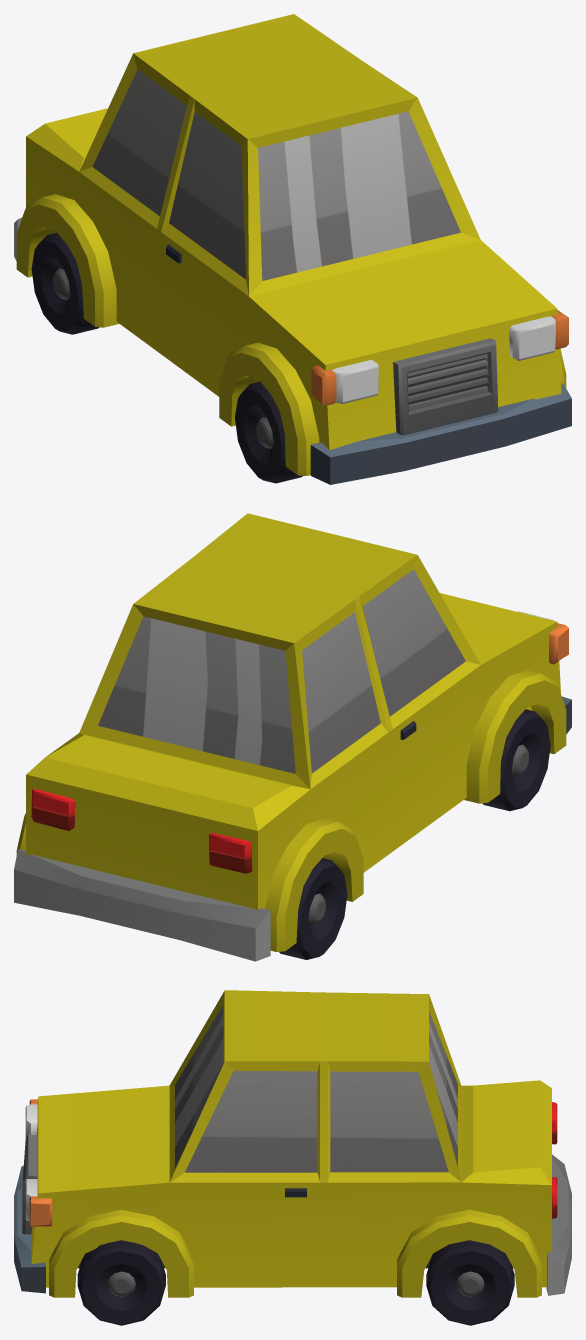
Rendered from Car_2_20.fbx.
3 views of the same model, one above another, from view 1: azimuth 30°, elevation 25°; view 2: azimuth 150°, elevation 25°; view 3: azimuth 270°, elevation 25° (orthographic). The views are drawn at different scales.
Parts seen in each view (by area): view 1: Car_2_20, W_BR, W_FR; view 2: Car_2_20, W_FR, W_BR; view 3: Car_2_20, W_BL, W_FL.
Part boxes in pixels (<box>): Car_2_20: <box>14,14,571,484</box>; W_BR: <box>31,232,99,334</box>; W_FR: <box>235,381,302,483</box>; Car_2_20: <box>14,513,571,961</box>; W_FR: <box>482,709,550,811</box>; W_BR: <box>279,858,347,959</box>; Car_2_20: <box>14,990,571,1297</box>; W_BL: <box>426,1240,514,1325</box>; W_FL: <box>77,1240,165,1325</box>.
Size of the model in its own units: 109 by 111 by 228.
